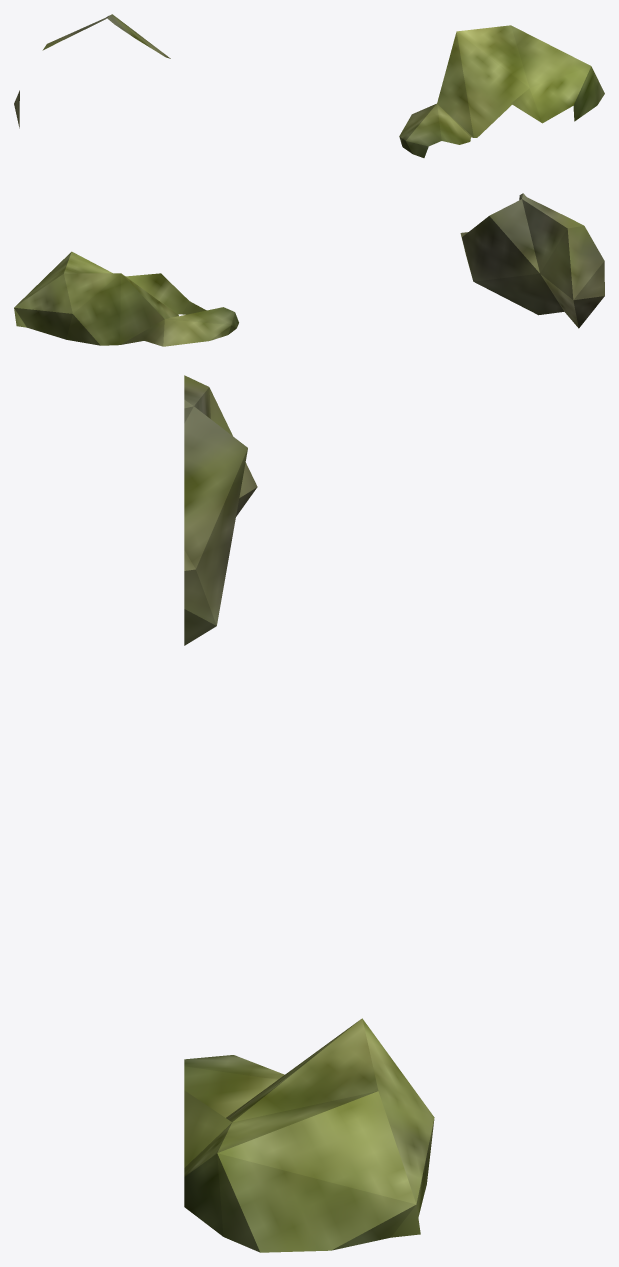
The picture shows the model from 3 angles, top to bottom: view 1: azimuth 30°, elevation 25°; view 2: azimuth 150°, elevation 25°; view 3: azimuth 270°, elevation 25°; orthographic projection. The views are drawn at different scales.
Bounding box in the file's own units: 9.45 × 3.28 × 1.87.
1 material, 1 textured.
